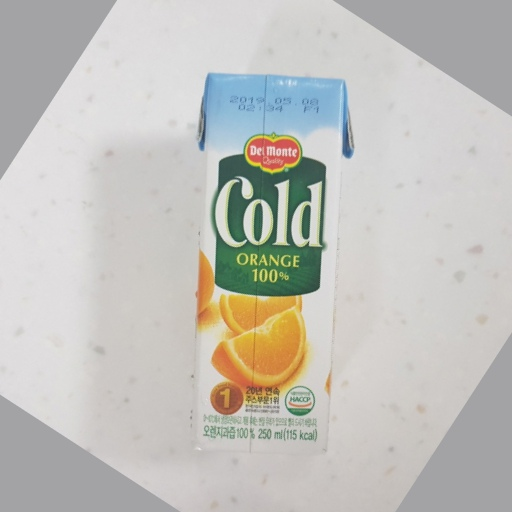Paper_0: (185, 63, 352, 458)
